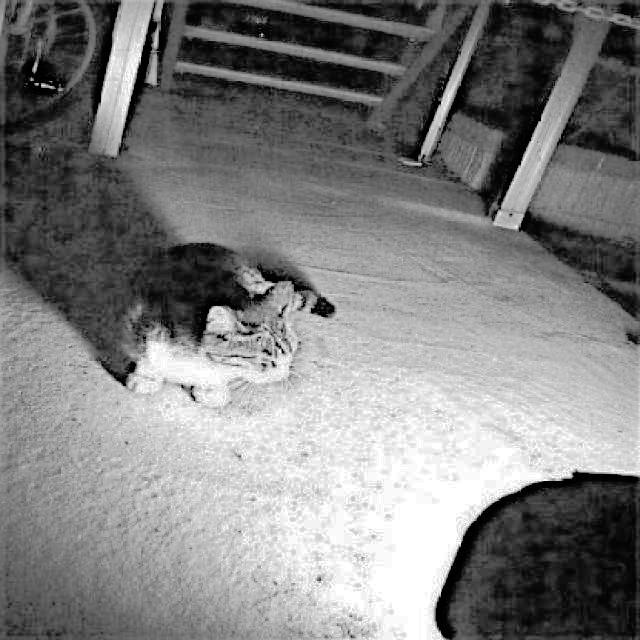Cat: (108, 242, 349, 410)
